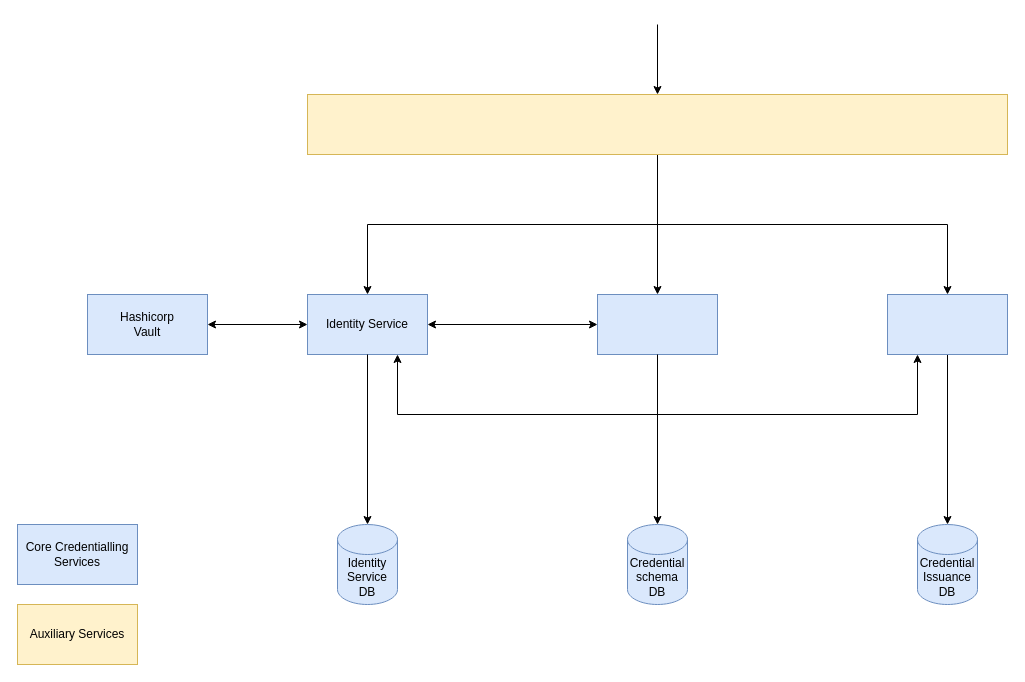
This 1025x682 diagram has some shape labels left out. Each missing label, with the centre of its shape:
Credential Issuance Service: pixel 947 324
Credential Schema Service: pixel 657 324
Ingress: pixel 657 124
